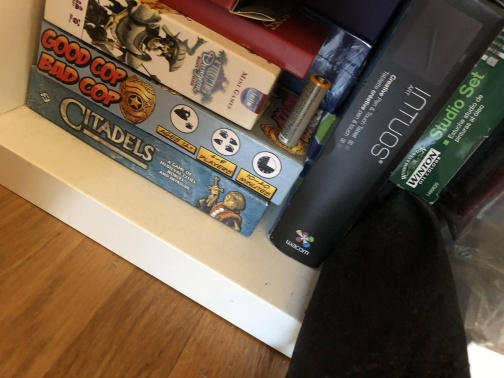battery: (275, 71, 333, 151)
